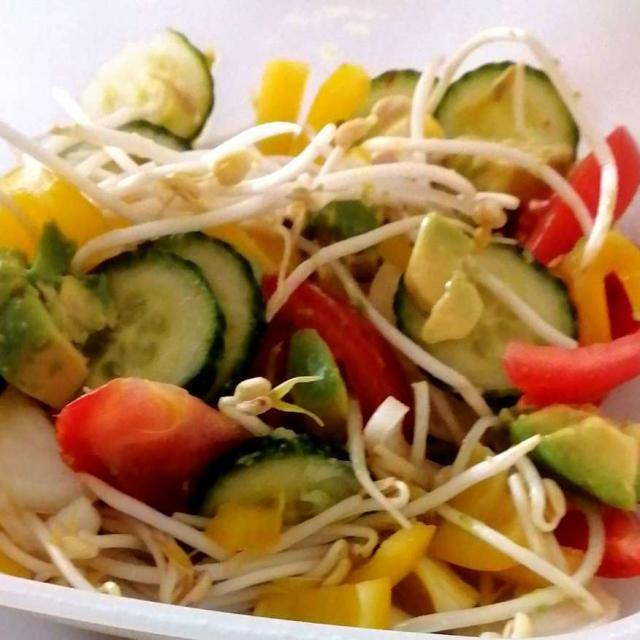avocado: (1, 216, 625, 503)
